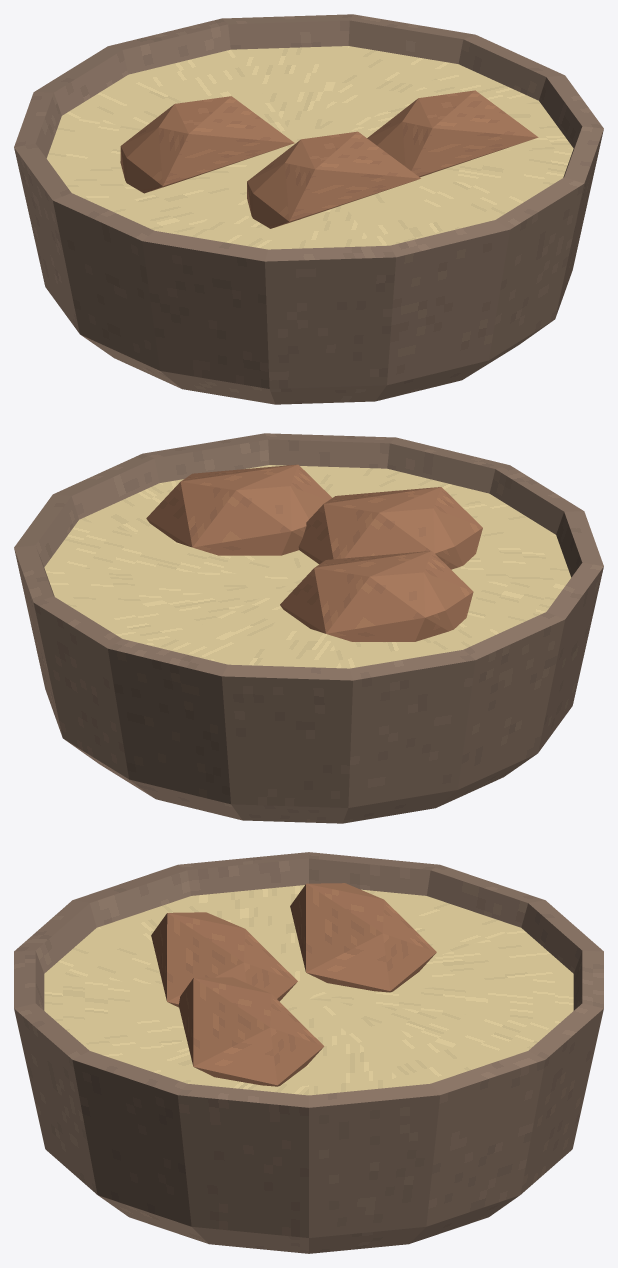
Rendered from confit_meat.glb.
The picture shows the model from 3 angles, top to bottom: view 1: azimuth 30°, elevation 25°; view 2: azimuth 150°, elevation 25°; view 3: azimuth 270°, elevation 25°; orthographic projection. The views are drawn at different scales.
Parts seen in each view (by area): view 1: block_shallow preserving pot, block_pale cooking fat surface, block_pieces of confit (×3); view 2: block_shallow preserving pot, block_pale cooking fat surface, block_pieces of confit (×3); view 3: block_shallow preserving pot, block_pale cooking fat surface, block_pieces of confit (×3).
Part boxes in pixels (x1=…): block_shallow preserving pot: x1=14, y1=14, x2=603, y2=404; block_pale cooking fat surface: x1=46, y1=46, x2=573, y2=249; block_pieces of confit (×3): x1=120, y1=90, x2=538, y2=228; block_shallow preserving pot: x1=14, y1=433, x2=603, y2=823; block_pale cooking fat surface: x1=44, y1=465, x2=571, y2=668; block_pieces of confit (×3): x1=146, y1=464, x2=482, y2=641; block_shallow preserving pot: x1=14, y1=852, x2=603, y2=1253; block_pale cooking fat surface: x1=44, y1=885, x2=573, y2=1095; block_pieces of confit (×3): x1=151, y1=883, x2=436, y2=1086.
Size of the model in its own units: 0.1203 by 0.0465 by 0.1173.
Materials: 1 (1 with a texture image).
